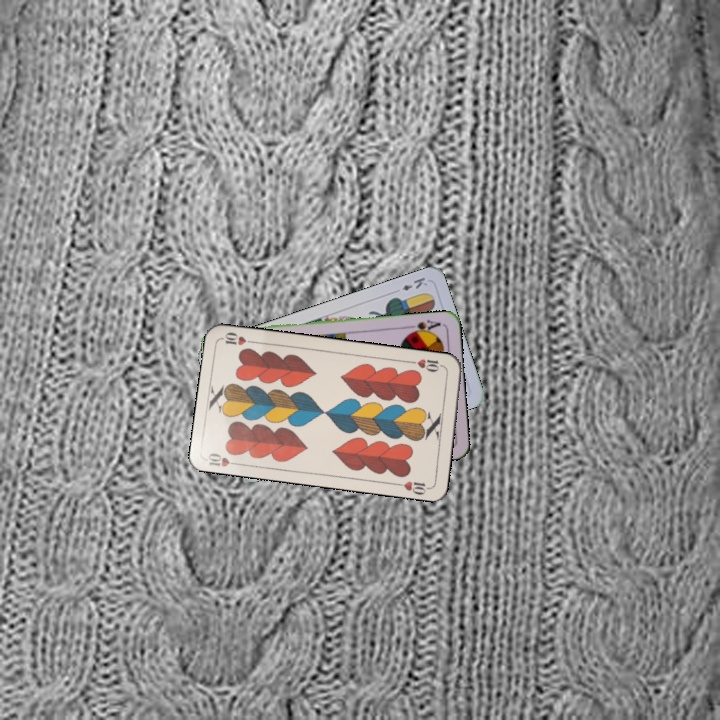EK: (398, 273, 430, 293)
H10: (406, 355, 447, 375), (203, 449, 244, 469)
SA: (403, 315, 443, 337)
